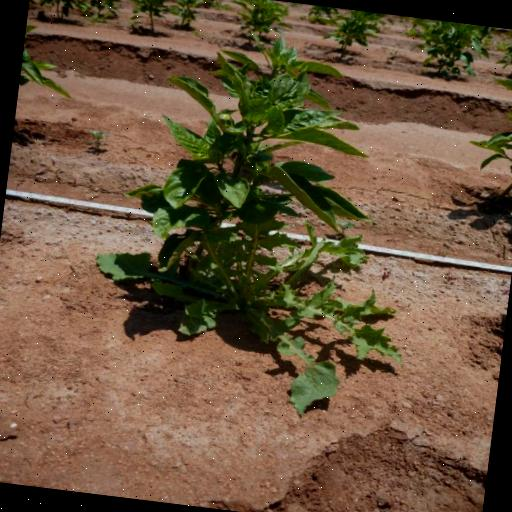plant: (124, 34, 382, 270), (411, 18, 487, 81), (471, 75, 512, 191), (326, 8, 386, 60), (232, 0, 294, 45), (125, 0, 174, 39), (27, 0, 94, 27), (165, 0, 207, 33), (78, 0, 131, 26), (490, 27, 512, 79), (300, 4, 337, 26)
weed: (84, 223, 413, 426), (82, 128, 110, 153), (336, 217, 356, 235)
